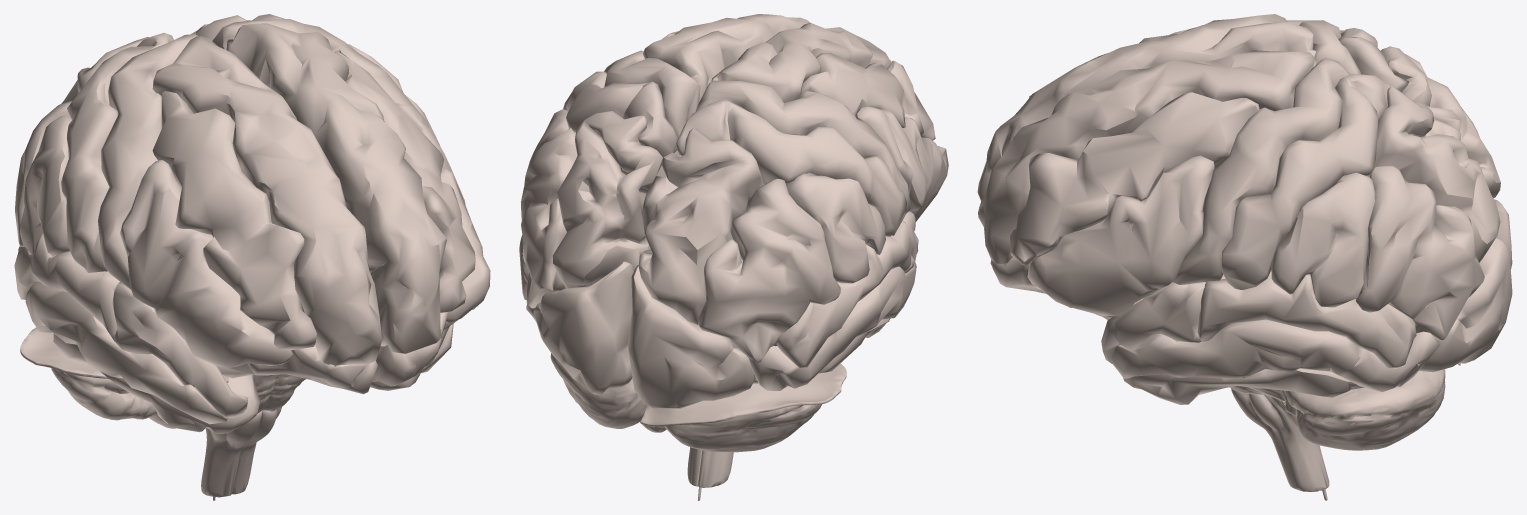
The model's file is snc-tete.lo.glb.
The picture shows the model from 3 angles, left to right: view 1: azimuth 30°, elevation 25°; view 2: azimuth 150°, elevation 25°; view 3: azimuth 270°, elevation 25°; orthographic projection. The views are drawn at different scales.
Visible parts, largest first — view 1: FJ1833, FJ1834, FJ1788, FJ1745, FJ1801, FJ1798, FJ1790, FJ1787, FJ1838, FJ1842, FJ1840, FJ1794 (+12 smaller); view 2: FJ1733, FJ1836, FJ1835, FJ1792, FJ1798, FJ1791, FJ1834, FJ1842, FJ1732, FJ1801, FJ1833, FJ1788 (+11 smaller); view 3: FJ1833, FJ1787, FJ1744, FJ1732, FJ1789, FJ1797, FJ1800, FJ1834, FJ1841, FJ1835, FJ1839, FJ1781 (+8 smaller).
Boxes of the visible parts, x1,y1,x2,y2 form: FJ1833: (226,23,446,353); FJ1834: (152,36,382,366); FJ1788: (152,91,316,350); FJ1745: (120,160,292,367); FJ1801: (98,34,198,289); FJ1798: (61,33,173,272); FJ1790: (25,281,228,424); FJ1787: (334,50,475,313); FJ1838: (112,282,248,417); FJ1842: (20,116,71,256); FJ1840: (14,233,119,341); FJ1794: (217,345,377,394); FJ1733: (698,179,840,362); FJ1836: (638,128,764,324); FJ1835: (552,111,662,288); FJ1792: (627,264,753,408); FJ1798: (676,99,906,236); FJ1791: (533,261,634,395); FJ1834: (711,23,891,103); FJ1842: (786,172,885,283); FJ1732: (521,128,577,308); FJ1801: (696,80,910,213); FJ1833: (643,14,810,101); FJ1788: (798,53,935,140); FJ1833: (978,50,1317,264); FJ1787: (1010,92,1259,265); FJ1744: (1027,155,1214,316); FJ1732: (1356,165,1484,340); FJ1789: (1110,319,1439,391); FJ1797: (1221,73,1390,289); FJ1800: (1173,57,1349,284); FJ1834: (977,14,1316,201); FJ1841: (1271,172,1376,307); FJ1835: (1367,86,1500,262); FJ1839: (1197,270,1416,368); FJ1781: (1282,369,1445,450).
Bounding box in the file's own units: 0.1408 × 0.1718 × 0.18.
